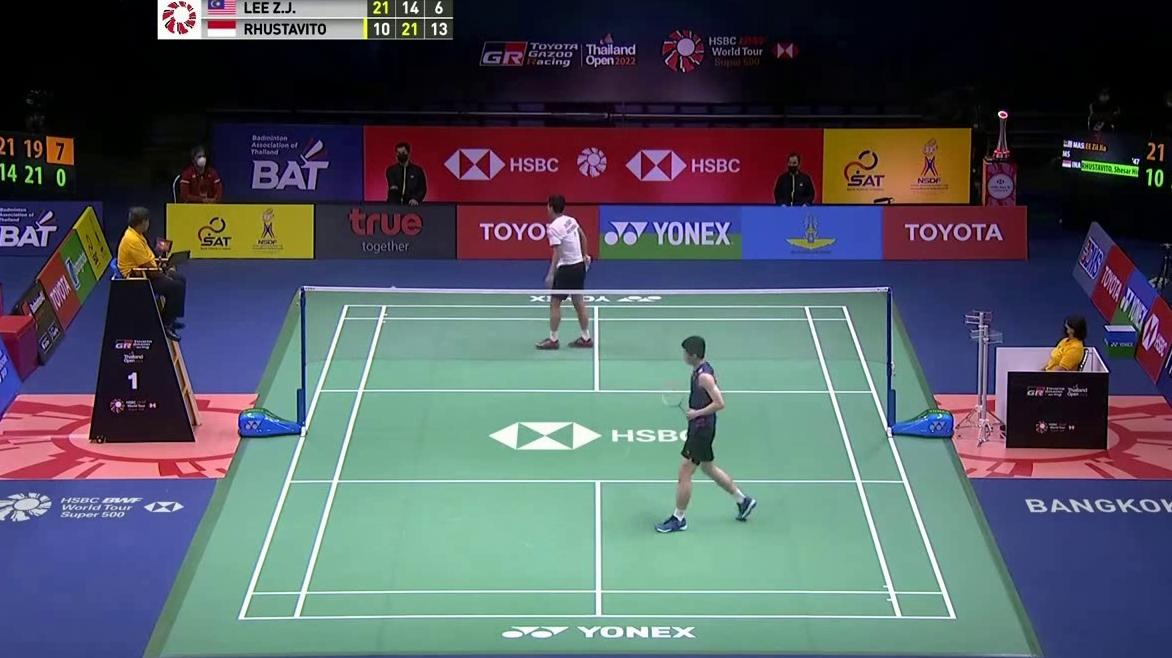racket: (660, 387, 692, 423), (583, 253, 593, 276)
shuttle: (388, 283, 397, 293)
